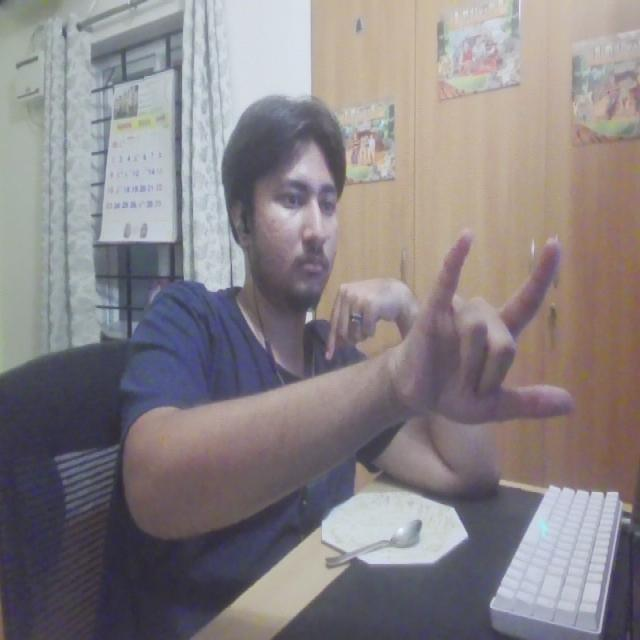iloveyou: (397, 223, 589, 463)
